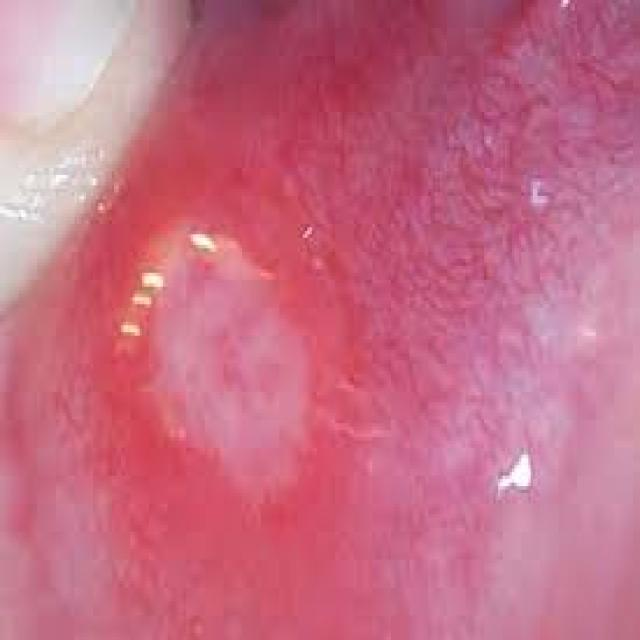processing_area: (0, 0, 638, 637)
ulcer-detection: (122, 204, 328, 532)
